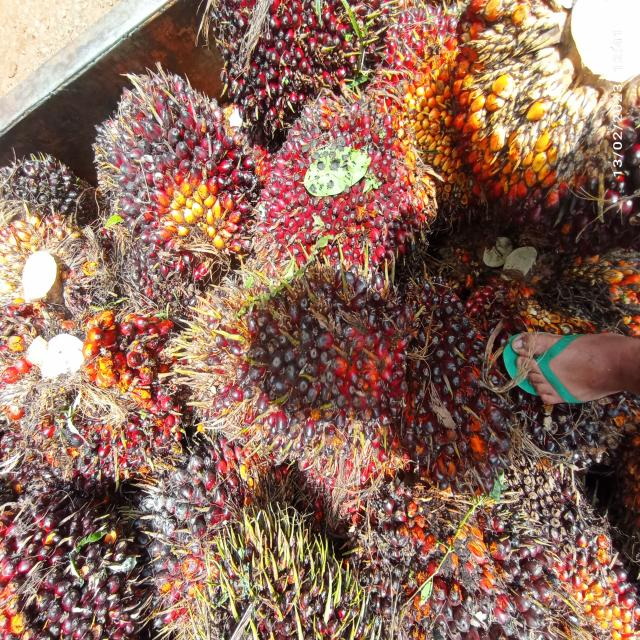fraksi 00: (382, 278, 519, 484), (0, 134, 92, 244)
fraksi 1: (183, 269, 404, 456), (106, 62, 248, 320), (208, 0, 352, 137), (13, 486, 126, 640)
fraksi 3: (222, 75, 437, 294), (378, 0, 503, 216), (62, 318, 188, 476)
